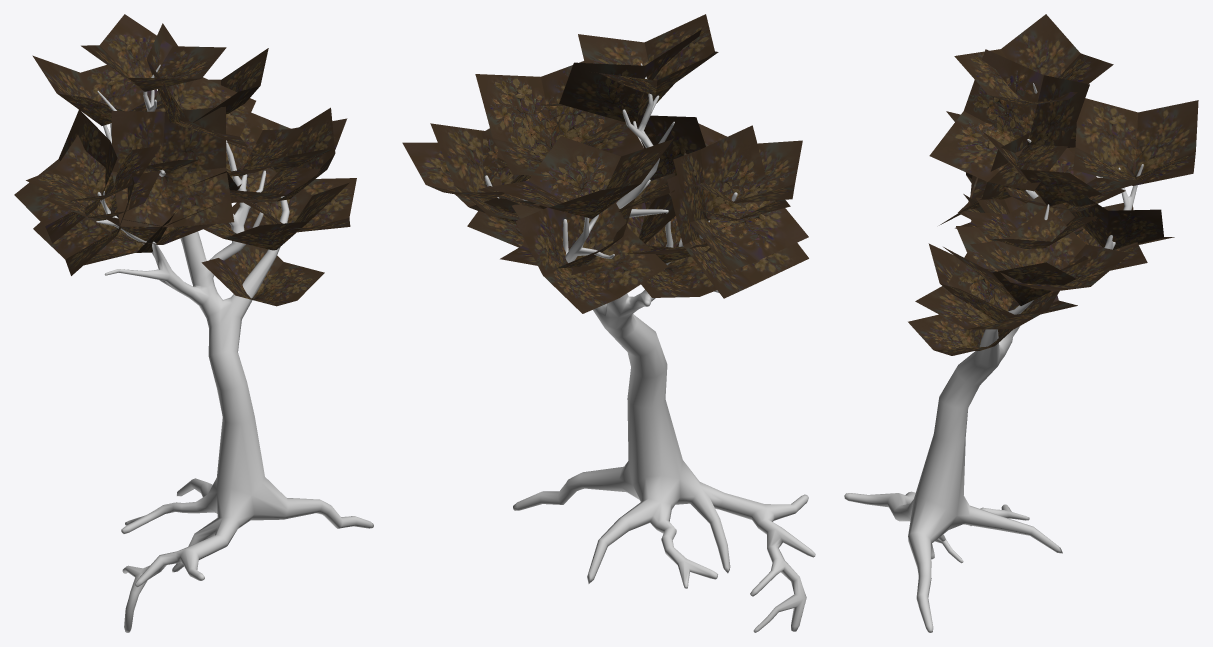
Rendered from tree1.fbx.
3 views of the same model, side by side, from view 1: azimuth 30°, elevation 25°; view 2: azimuth 150°, elevation 25°; view 3: azimuth 270°, elevation 25° (orthographic). The views are drawn at different scales.
Visible parts, largest first — view 1: leaves, tree1; view 2: leaves, tree1; view 3: leaves, tree1.
Part boxes in pixels (x1=…): leaves: x1=14, y1=14, x2=356, y2=306; tree1: x1=96, y1=64, x2=373, y2=632; leaves: x1=402, y1=14, x2=808, y2=313; tree1: x1=484, y1=63, x2=815, y2=632; leaves: x1=908, y1=14, x2=1198, y2=355; tree1: x1=844, y1=83, x2=1143, y2=632.
Size of the model in its own units: 520 by 816 by 477.
